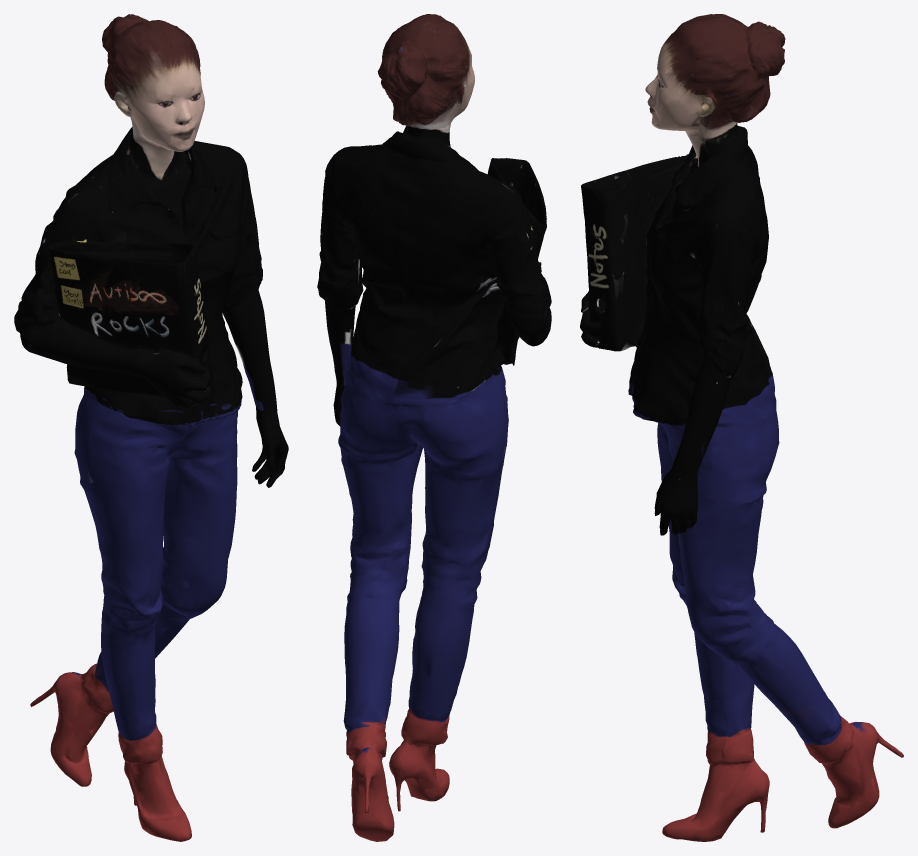
File: accepted.glb
3 views of the same model, side by side, from view 1: azimuth 30°, elevation 25°; view 2: azimuth 150°, elevation 25°; view 3: azimuth 270°, elevation 25° (orthographic). The views are drawn at different scales.
Visible parts, largest first — view 1: rp_mei_posed_001_30k; view 2: rp_mei_posed_001_30k; view 3: rp_mei_posed_001_30k.
Boxes of the visible parts, left/top/right/bottom form: rp_mei_posed_001_30k: left=14, top=14, right=288, bottom=841; rp_mei_posed_001_30k: left=317, top=14, right=551, bottom=841; rp_mei_posed_001_30k: left=580, top=14, right=903, bottom=841.
Size of the model in its own units: 53.64 by 170 by 61.16.
Materials: 1 (1 with a texture image).
